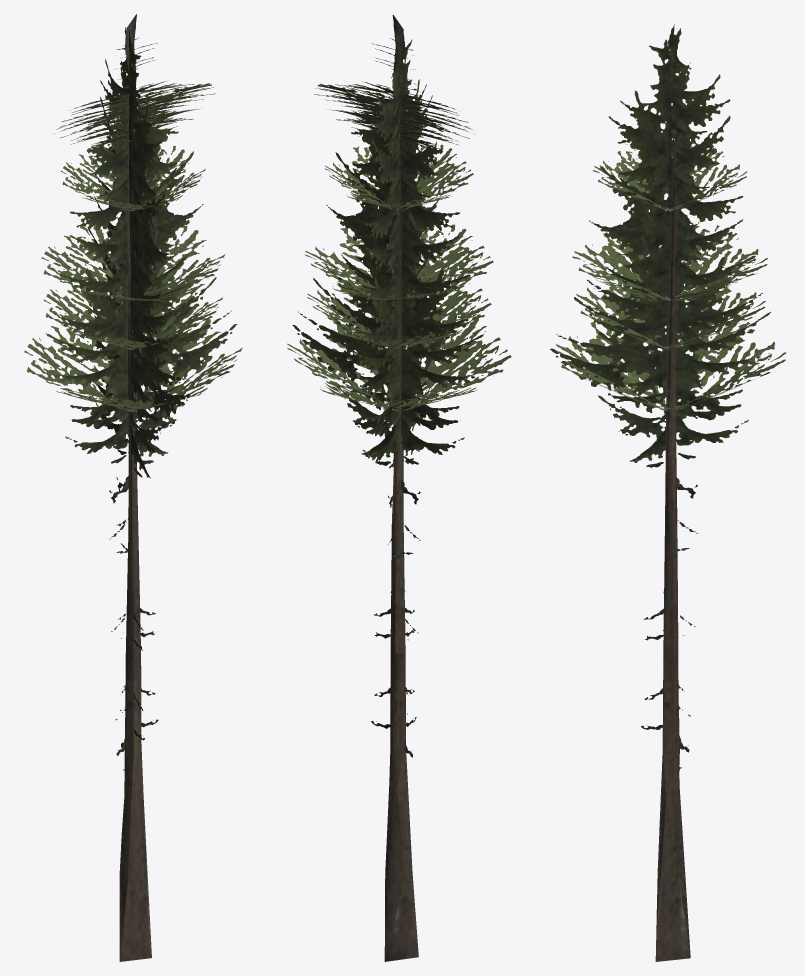
The model's file is smrk_k0.glb.
3 renders of one model, left to right at view 1: azimuth 30°, elevation 25°; view 2: azimuth 150°, elevation 25°; view 3: azimuth 270°, elevation 25°, orthographic.
Visible parts, largest first — view 1: Background_Tree_Atlas.006_Background_Tree_Atlas_0; view 2: Background_Tree_Atlas.006_Background_Tree_Atlas_0; view 3: Background_Tree_Atlas.006_Background_Tree_Atlas_0.
Part boxes in pixels (bbox=[...]): Background_Tree_Atlas.006_Background_Tree_Atlas_0: bbox=[24, 14, 242, 961]; Background_Tree_Atlas.006_Background_Tree_Atlas_0: bbox=[287, 14, 511, 961]; Background_Tree_Atlas.006_Background_Tree_Atlas_0: bbox=[550, 24, 785, 961].
Size of the model in its own units: 4.09 by 17.27 by 4.07.
1 material, 1 textured.
